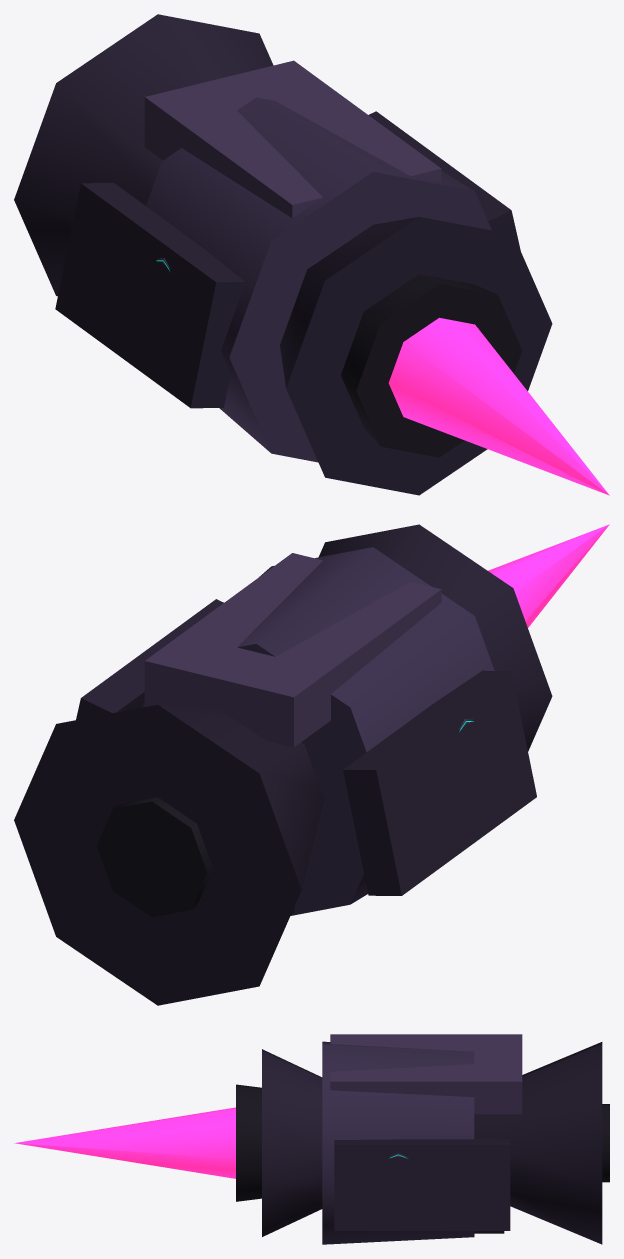
Rendered from enemy_pod_ship.glb.
3 renders of one model, top to bottom at view 1: azimuth 30°, elevation 25°; view 2: azimuth 150°, elevation 25°; view 3: azimuth 270°, elevation 25°, orthographic. The views are drawn at different scales.
Parts seen in each view (by area): view 1: EnemyPodShip, thrusterFlame; view 2: EnemyPodShip, thrusterFlame; view 3: EnemyPodShip, thrusterFlame.
Part boxes in pixels (bbox=[...]): EnemyPodShip: bbox=[14, 14, 552, 495]; thrusterFlame: bbox=[388, 317, 609, 495]; EnemyPodShip: bbox=[14, 524, 552, 1005]; thrusterFlame: bbox=[488, 524, 609, 627]; EnemyPodShip: bbox=[236, 1034, 609, 1244]; thrusterFlame: bbox=[14, 1107, 235, 1178].
Size of the model in its own units: 3.25 by 2.7 by 7.44.
